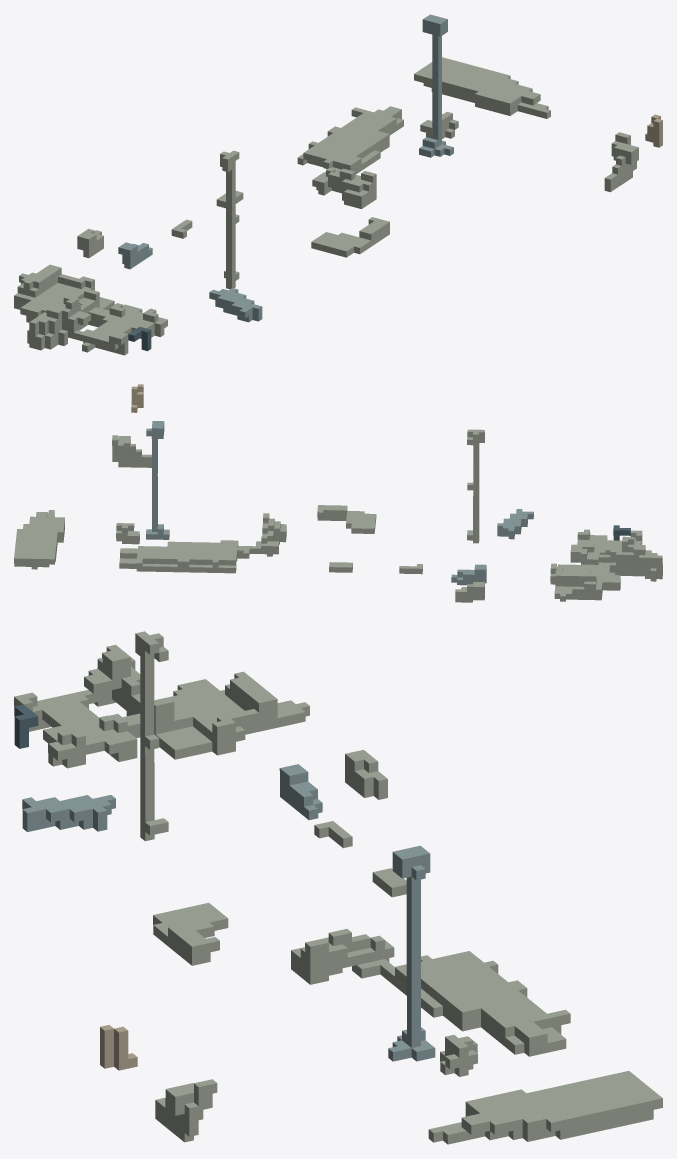
The picture shows the model from 3 angles, top to bottom: view 1: azimuth 30°, elevation 25°; view 2: azimuth 150°, elevation 25°; view 3: azimuth 270°, elevation 25°; orthographic projection. The views are drawn at different scales.
Parts seen in each view (by area): view 1: measured-industrial; view 2: measured-industrial; view 3: measured-industrial.
Part boxes in pixels (left/top/right/bottom): measured-industrial: left=14, top=14, right=662, bottom=355; measured-industrial: left=14, top=384, right=662, bottom=602; measured-industrial: left=14, top=631, right=662, bottom=1144.
Bounding box in the file's own units: 157 × 31.6 × 92.66.
